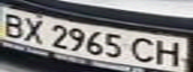2: (45, 20, 72, 51)
5: (103, 30, 130, 61)
6: (84, 28, 106, 56)
9: (66, 25, 87, 53)
B: (0, 10, 30, 38)
C: (127, 35, 160, 64)
H: (151, 38, 187, 68)
X: (18, 15, 48, 44)
